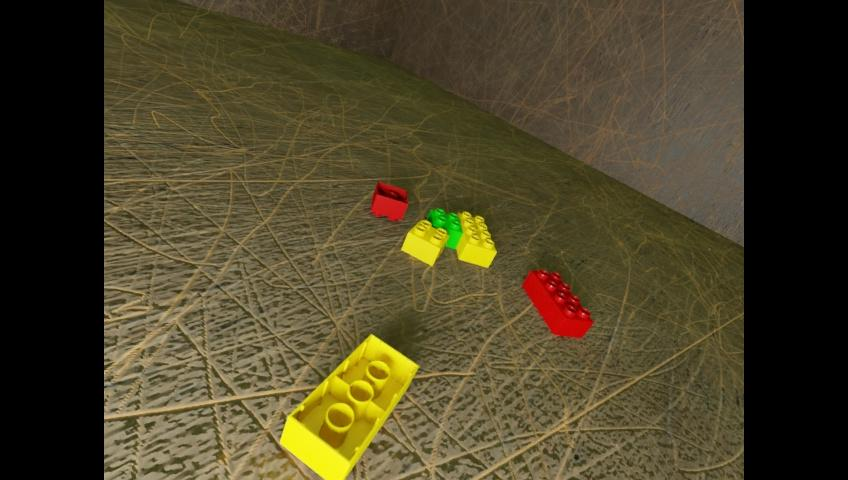2x2_green: (426, 208, 462, 248)
2x2_red: (371, 181, 407, 220)
2x2_yellow: (402, 219, 448, 265)
4x2_red: (521, 268, 593, 337)
4x2_yellow: (280, 333, 418, 480), (455, 211, 495, 267)
